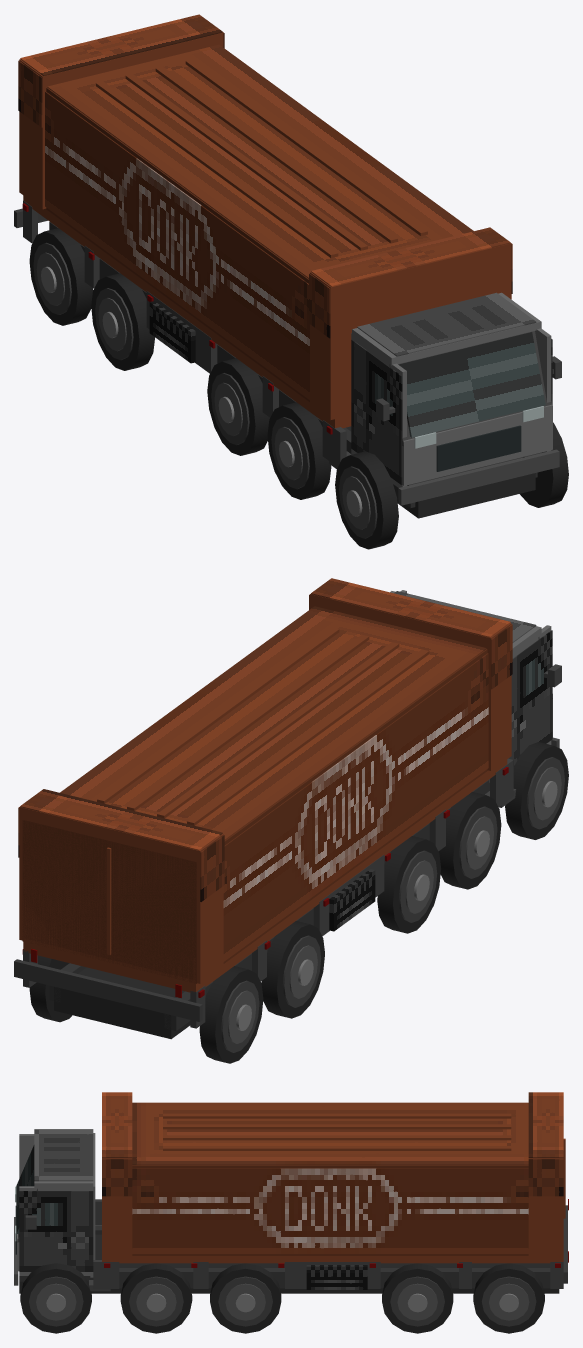
File: CMU3DRMCPropVehicleLongTruckDonk.glb
3 views of the same model, one above another, from view 1: azimuth 30°, elevation 25°; view 2: azimuth 150°, elevation 25°; view 3: azimuth 270°, elevation 25° (orthographic). The views are drawn at different scales.
Visible parts, largest first — view 1: original corrugated roof 1, original corrugated roof 0, original cargo markings -1 1, original cargo markings -1 0, cargo end band 0, sloped windshield, original vented cab roof, original cab side -1, cargo end band 1, original end band roof 1, cab lower front, original end band roof 0 (+34 smaller); view 2: closed corrugated cargo body, original corrugated roof 0, original cargo markings -1 1, cargo end band 1, original corrugated roof 1, original cargo markings -1 0, cargo underframe, original end band roof 1, cargo end band 0, original cab side -1, original end band roof 0, long ladder chassis (+29 smaller); view 3: original cargo markings 1 0, original cargo markings 1 1, original corrugated roof 0, original corrugated roof 1, original cab side 1, cargo underframe, original vented cab roof, closed corrugated cargo body, original end band roof 1, long ladder chassis, cargo end band 1, raised longitudinal roof rib 0 (+35 smaller).
Boxes of the visible parts, x1,y1,x2,y2 form: original corrugated roof 1: [47, 44, 347, 181]; original corrugated roof 0: [176, 139, 473, 278]; original cargo markings -1 1: [174, 186, 309, 399]; original cargo markings -1 0: [45, 91, 174, 300]; cargo end band 0: [310, 243, 511, 419]; sloped windshield: [398, 332, 545, 437]; original vented cab roof: [357, 292, 536, 356]; original cab side -1: [351, 339, 402, 484]; cargo end band 1: [19, 32, 223, 209]; original end band roof 1: [20, 14, 222, 76]; cab lower front: [402, 404, 552, 485]; original end band roof 0: [311, 227, 510, 286]; closed corrugated cargo body: [22, 649, 487, 983]; original corrugated roof 0: [177, 606, 486, 749]; original cargo markings -1 1: [350, 653, 488, 868]; cargo end band 1: [19, 806, 223, 983]; original corrugated roof 1: [60, 707, 348, 840]; original cargo markings -1 0: [223, 754, 350, 961]; cargo underframe: [23, 759, 507, 992]; original end band roof 1: [20, 789, 222, 850]; cargo end band 0: [310, 594, 511, 770]; original cab side -1: [508, 630, 552, 766]; original end band roof 0: [311, 578, 510, 637]; long ladder chassis: [54, 967, 190, 1039]; original cargo markings 1 0: [132, 1168, 336, 1253]; original cargo markings 1 1: [337, 1168, 528, 1253]; original corrugated roof 0: [132, 1102, 336, 1165]; original corrugated roof 1: [337, 1102, 528, 1165]; original cab side 1: [19, 1191, 93, 1271]; cargo underframe: [102, 1256, 563, 1263]; original vented cab roof: [34, 1130, 93, 1181]; closed corrugated cargo body: [132, 1165, 528, 1255]; original end band roof 1: [528, 1092, 563, 1157]; long ladder chassis: [19, 1234, 559, 1293]; cargo end band 1: [528, 1158, 563, 1256]; raised longitudinal roof rib 0: [163, 1113, 511, 1118].
Size of the model in its own units: 1.21 by 1.39 by 3.98.
34 materials, 12 textured.
